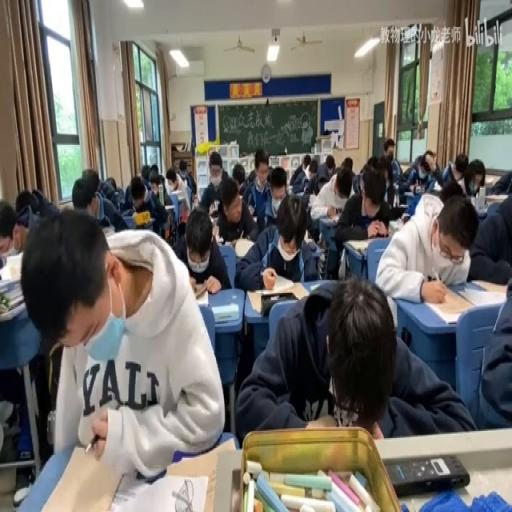calculator: (32, 442, 126, 509), (112, 471, 208, 512), (421, 284, 475, 323), (249, 282, 307, 312), (0, 277, 26, 320), (0, 250, 23, 280), (212, 302, 238, 324), (120, 210, 148, 229), (471, 278, 507, 292), (233, 236, 254, 258), (346, 239, 371, 253), (193, 287, 209, 307), (476, 202, 490, 219), (387, 219, 402, 233), (485, 193, 507, 202), (102, 224, 116, 238), (310, 244, 324, 258), (323, 214, 342, 224), (222, 238, 238, 248), (290, 186, 306, 196), (304, 228, 314, 244), (402, 189, 416, 199), (310, 282, 323, 292), (209, 213, 219, 226), (396, 202, 408, 212), (432, 181, 442, 189), (164, 204, 174, 210)
paper: (22, 203, 220, 481), (240, 273, 474, 442), (376, 189, 475, 307), (474, 273, 512, 430), (332, 166, 392, 248), (467, 182, 512, 284), (72, 169, 126, 235), (210, 174, 258, 248), (144, 165, 176, 232), (259, 165, 291, 232), (398, 148, 440, 196), (0, 196, 26, 256), (380, 139, 402, 199), (25, 186, 59, 222), (298, 158, 322, 200), (462, 158, 485, 196), (176, 157, 196, 199), (486, 168, 511, 196), (438, 179, 464, 201), (232, 161, 248, 193), (334, 171, 352, 199), (130, 178, 146, 206), (254, 151, 269, 175), (454, 155, 468, 178), (350, 169, 362, 195), (208, 152, 221, 172), (113, 186, 125, 206), (364, 155, 378, 171), (148, 166, 158, 185), (325, 154, 334, 174), (105, 175, 117, 189), (342, 155, 352, 171), (141, 164, 150, 179), (246, 168, 254, 183), (302, 155, 310, 169), (266, 164, 272, 180)
person: (384, 452, 470, 494)
